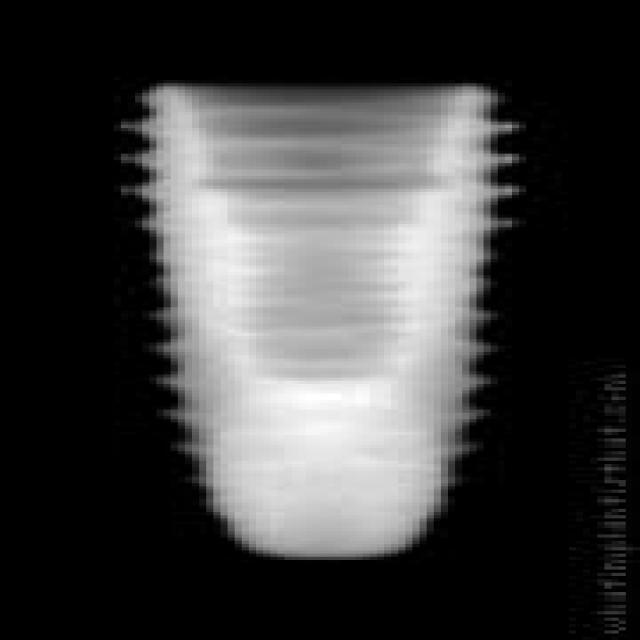Titan Implant Implant: (124, 80, 505, 566)
